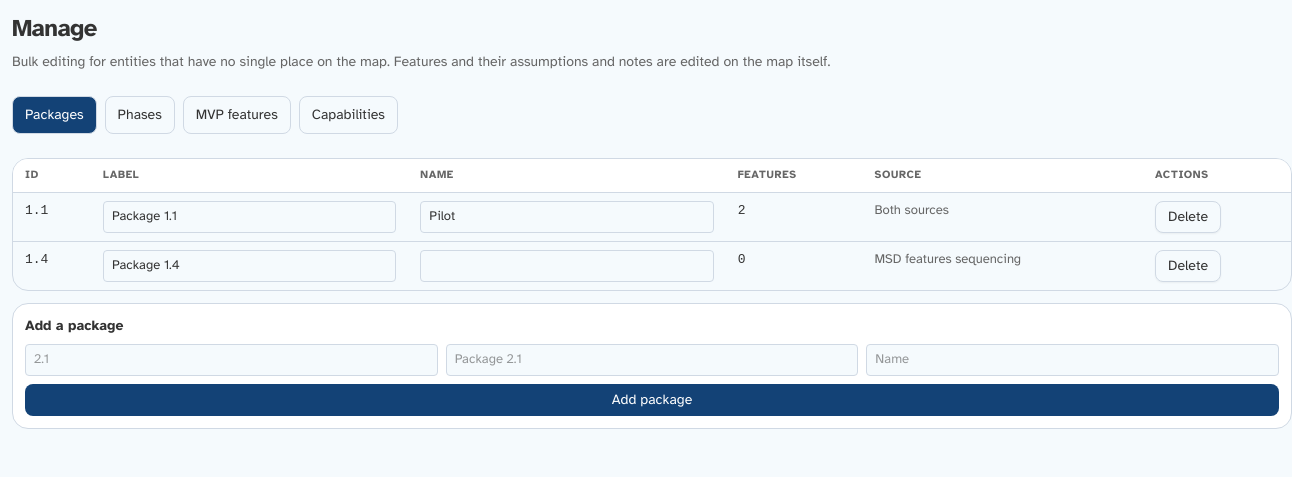
it: Manage — releases › surfaces the server's refusal to delete
Expected: the table named "packages" is shown, [13,159,1291,290]
Click the button "Delete" in the row of "1.1" at (1188,216), box [1155,200,1221,232]
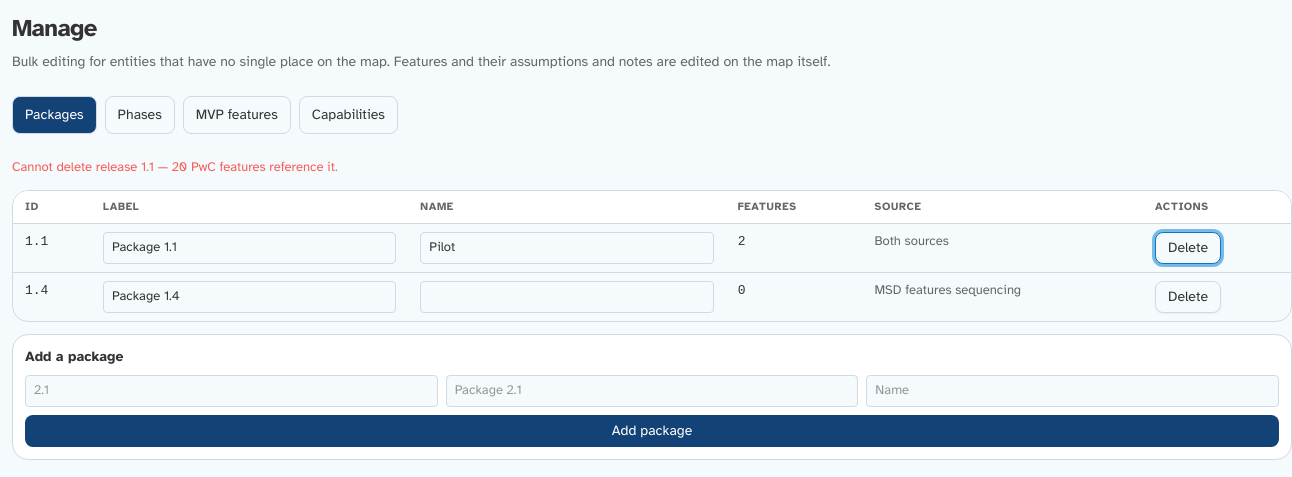
Expected: the message shows "Cannot delete release 1.1", [12,159,338,175]
